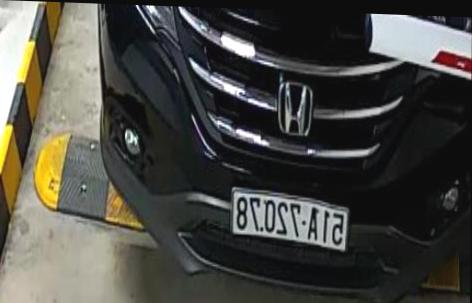License_Plate: (223, 189, 354, 250)
